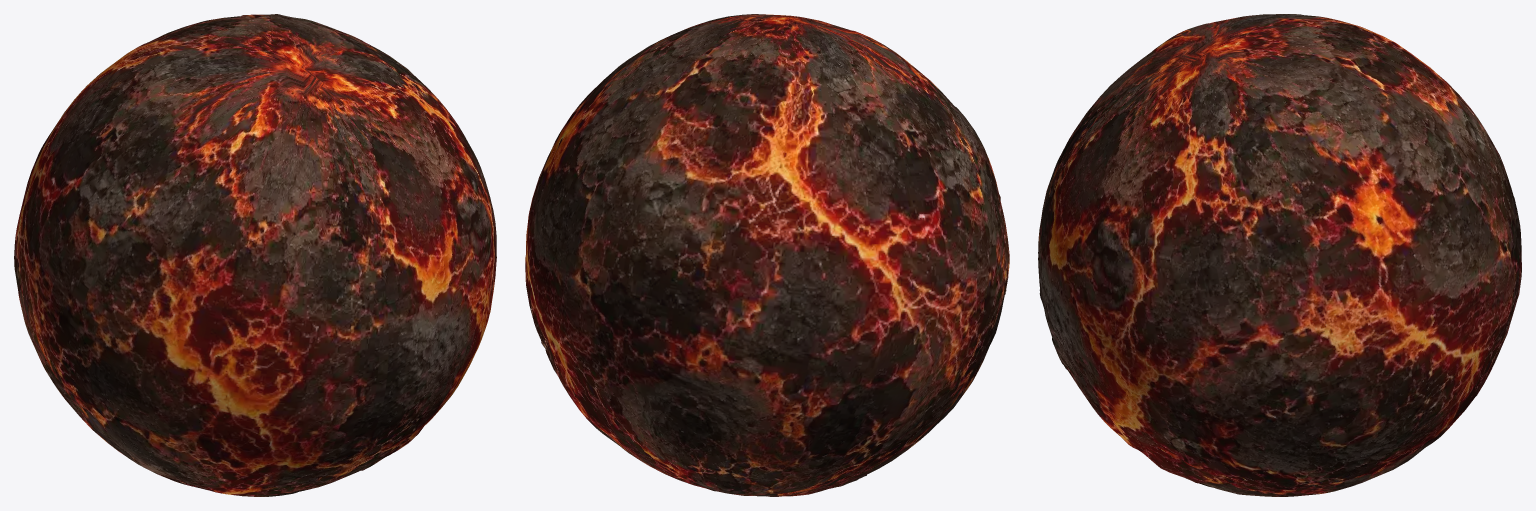
The model's file is planet_1.glb.
The picture shows the model from 3 angles, left to right: view 1: azimuth 30°, elevation 25°; view 2: azimuth 150°, elevation 25°; view 3: azimuth 270°, elevation 25°; orthographic projection.
Parts seen in each view (by area): view 1: Mesh_0.001; view 2: Mesh_0.001; view 3: Mesh_0.001.
Part boxes in pixels (left/top/right/bottom): Mesh_0.001: left=14, top=14, right=496, bottom=496; Mesh_0.001: left=525, top=14, right=1009, bottom=496; Mesh_0.001: left=1038, top=14, right=1521, bottom=496.
Bounding box in the file's own units: 1.9 × 1.9 × 1.9.
1 material, 1 textured.
